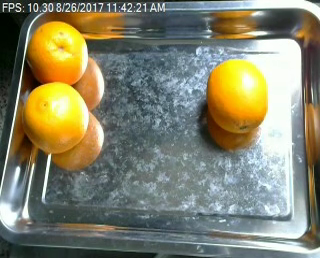Orange: (206, 57, 268, 134), (22, 82, 88, 153), (28, 18, 88, 85)
